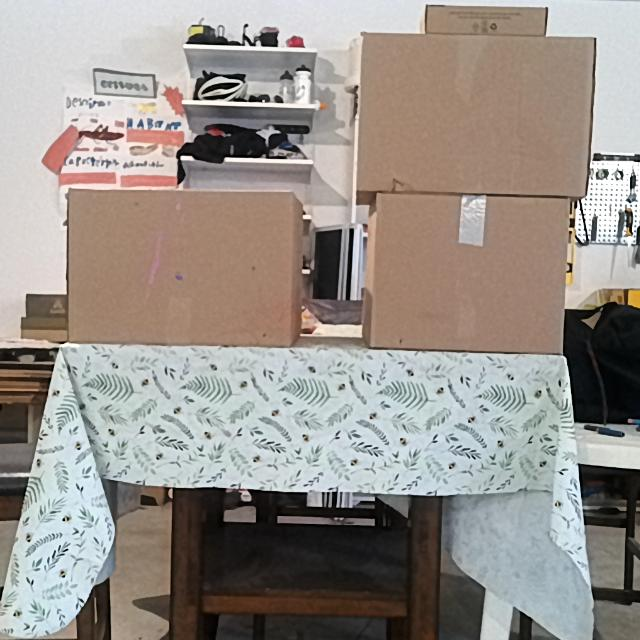box: (360, 37, 598, 192), (68, 189, 292, 345), (372, 196, 570, 346), (424, 2, 550, 36)
